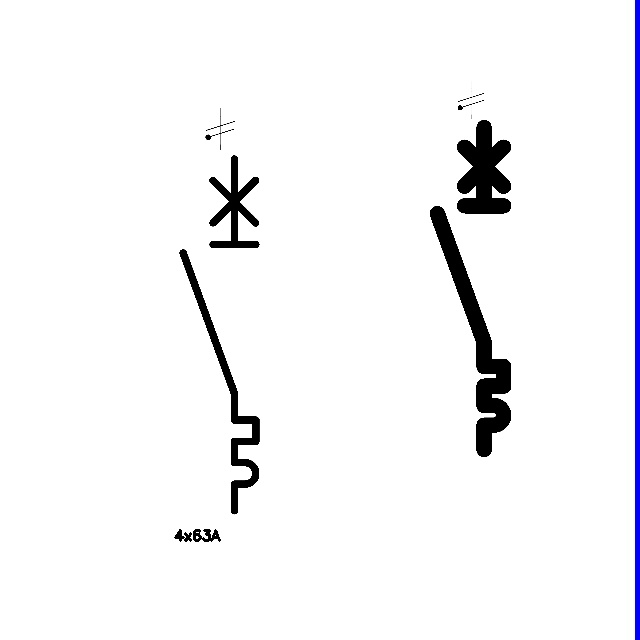interruptor_termomagnetico: (174, 149, 265, 519), (429, 119, 512, 458)
